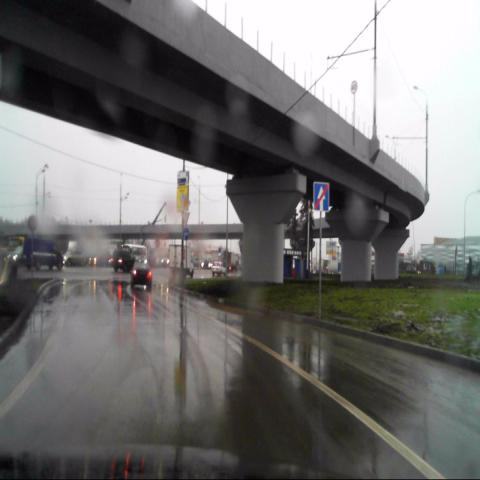5_6: (314, 182, 330, 211)
